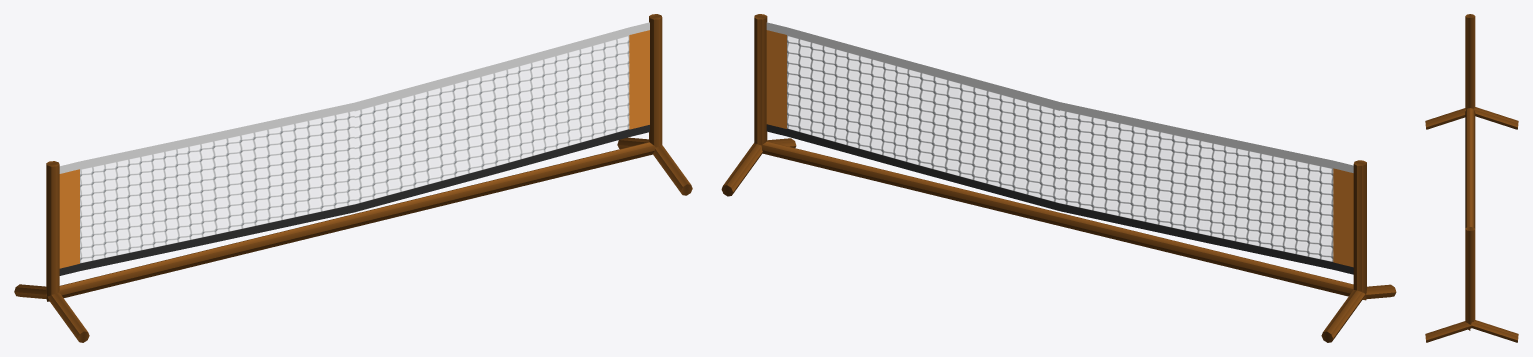
File: equipment_0034_headtennisnet.glb
3 renders of one model, left to right at view 1: azimuth 30°, elevation 25°; view 2: azimuth 150°, elevation 25°; view 3: azimuth 270°, elevation 25°, orthographic. The views are drawn at different scales.
Parts seen in each view (by area): view 1: net, poles; view 2: net, poles; view 3: poles.
Part boxes in pixels (x1,y1,x2,y2): net: [59, 22, 649, 275]; poles: [14, 14, 692, 342]; net: [766, 22, 1353, 274]; poles: [721, 14, 1396, 342]; poles: [1425, 14, 1518, 342].
Size of the model in its own units: 352 by 85.81 by 63.75.
2 materials, 2 textured.
